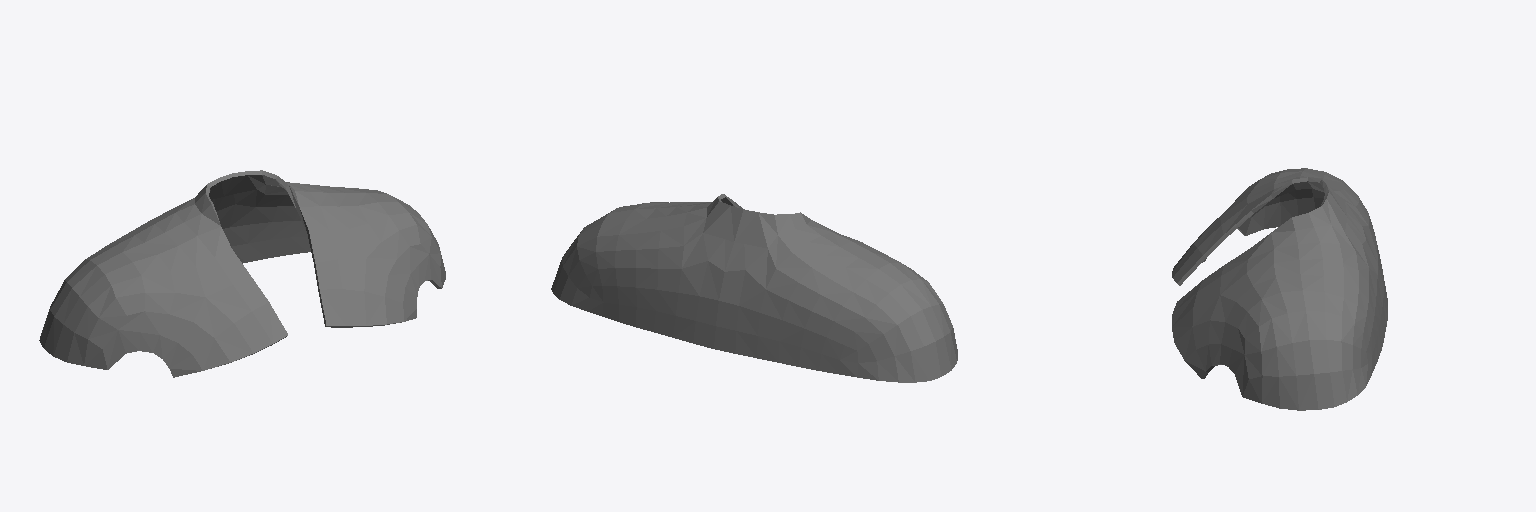
File: LowPoly_Aristocrata_CapaOmbreiras.obj
3 renders of one model, left to right at view 1: azimuth 30°, elevation 25°; view 2: azimuth 150°, elevation 25°; view 3: azimuth 270°, elevation 25°, orthographic.
Parts seen in each view (by area): view 1: LowPoly_Aristocrata_CapaOmbreiras.001; view 2: LowPoly_Aristocrata_CapaOmbreiras.001; view 3: LowPoly_Aristocrata_CapaOmbreiras.001.
Part boxes in pixels (x1,y1,x2,y2): LowPoly_Aristocrata_CapaOmbreiras.001: (39, 170, 445, 377); LowPoly_Aristocrata_CapaOmbreiras.001: (551, 194, 957, 382); LowPoly_Aristocrata_CapaOmbreiras.001: (1172, 168, 1387, 410).
Size of the model in its own units: 72.44 by 23.14 by 35.16.